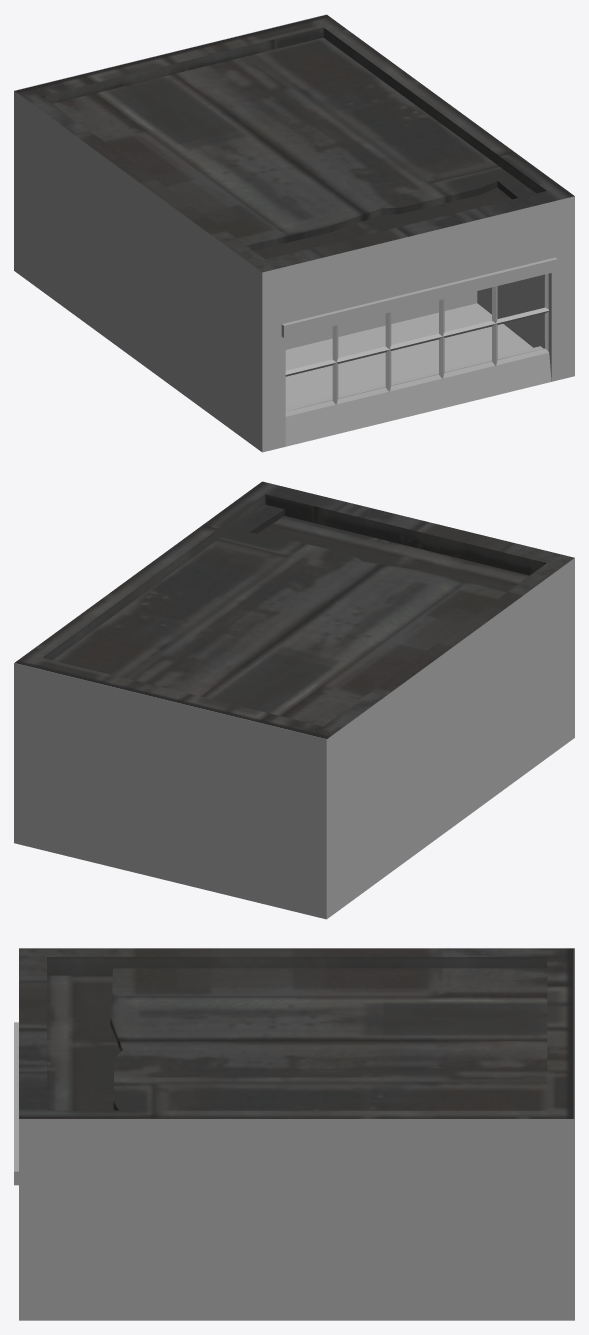
Rendered from bz_build_01.fbx.
3 renders of one model, top to bottom at view 1: azimuth 30°, elevation 25°; view 2: azimuth 150°, elevation 25°; view 3: azimuth 270°, elevation 25°, orthographic. The views are drawn at different scales.
Visible parts, largest first — view 1: bz_build_01; view 2: bz_build_01; view 3: bz_build_01.
Part boxes in pixels (left/top/right/bottom): bz_build_01: left=14, top=14, right=574, bottom=452; bz_build_01: left=14, top=481, right=574, bottom=919; bz_build_01: left=14, top=948, right=574, bottom=1320.
Bounding box in the file's own units: 8 × 4.4 × 11.1.
